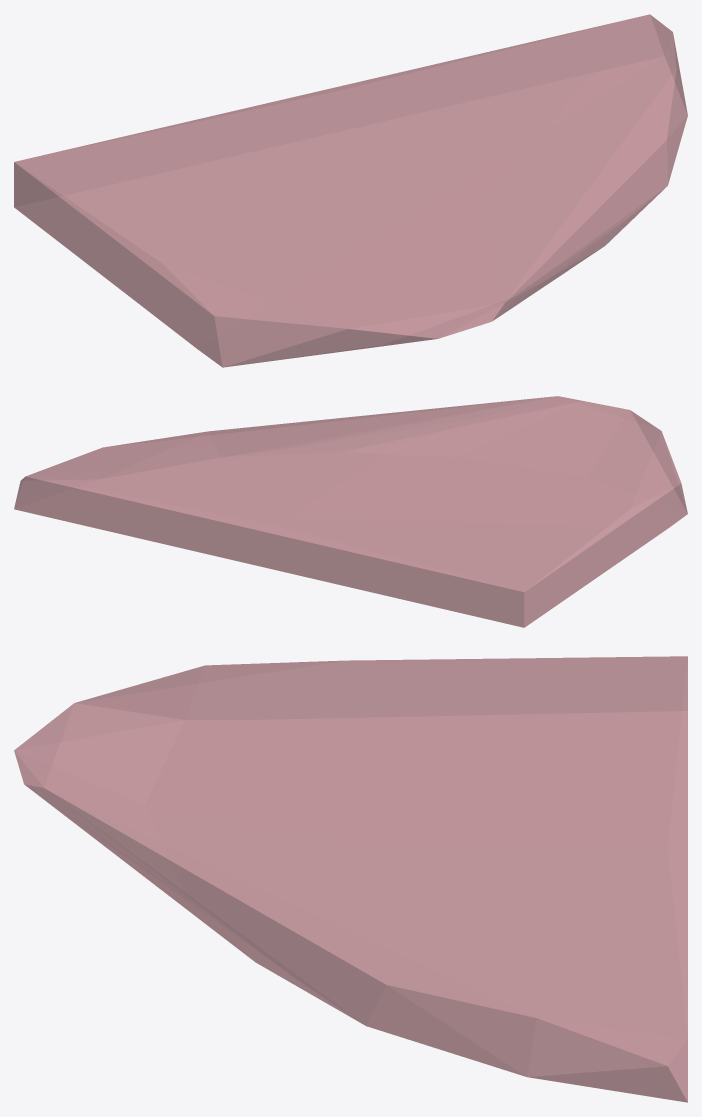
3 views of the same model, one above another, from view 1: azimuth 30°, elevation 25°; view 2: azimuth 150°, elevation 25°; view 3: azimuth 270°, elevation 25° (orthographic). The views are drawn at different scales.
Parts seen in each view (by area): view 1: Shape_IndexedFaceSet.004_Shape_IndexedFaceSet.10808; view 2: Shape_IndexedFaceSet.004_Shape_IndexedFaceSet.10808; view 3: Shape_IndexedFaceSet.004_Shape_IndexedFaceSet.10808.
Part boxes in pixels (x1,y1,x2,y2): Shape_IndexedFaceSet.004_Shape_IndexedFaceSet.10808: (14,14,687,367); Shape_IndexedFaceSet.004_Shape_IndexedFaceSet.10808: (14,396,687,627); Shape_IndexedFaceSet.004_Shape_IndexedFaceSet.10808: (14,656,687,1102).
Bounding box in the file's own units: 0.1585 × 0.0123 × 0.118.
